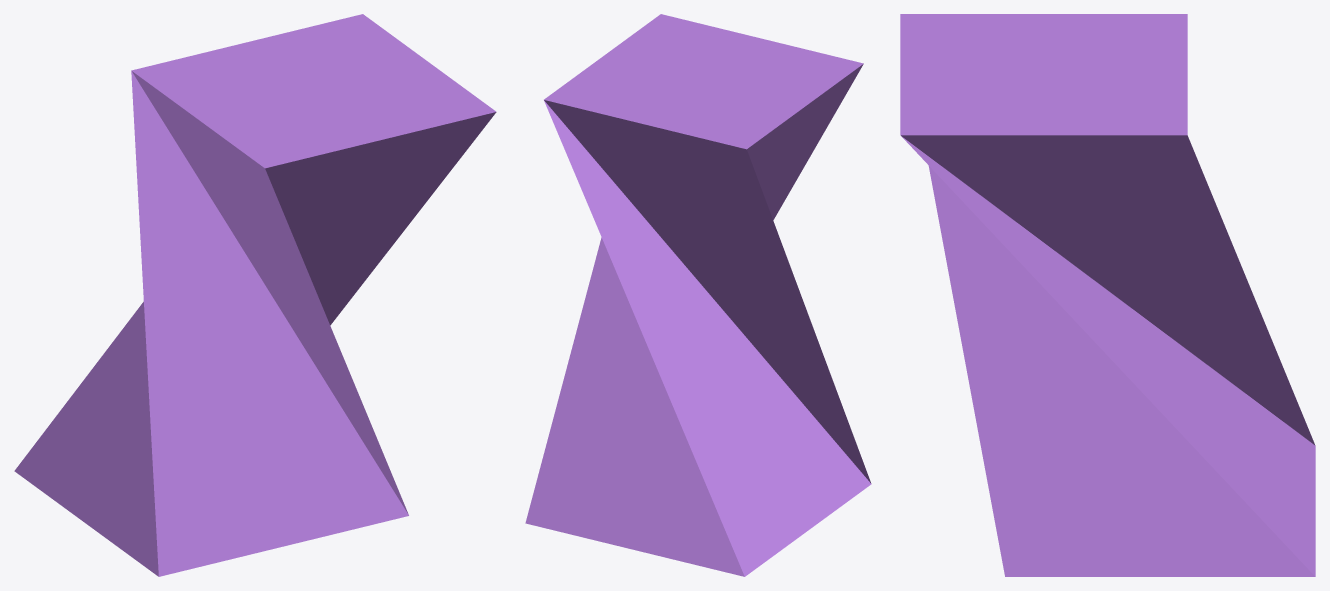
Rendered from HanbeeCho.glb.
The picture shows the model from 3 angles, left to right: view 1: azimuth 30°, elevation 25°; view 2: azimuth 150°, elevation 25°; view 3: azimuth 270°, elevation 25°; orthographic projection. The views are drawn at different scales.
Parts seen in each view (by area): view 1: Cube; view 2: Cube; view 3: Cube.
Part boxes in pixels (x1,y1,x2,y2): Cube: (14,14,496,576); Cube: (525,14,871,576); Cube: (900,14,1315,576).
Bounding box in the file's own units: 2.31 × 3.28 × 2.67.
